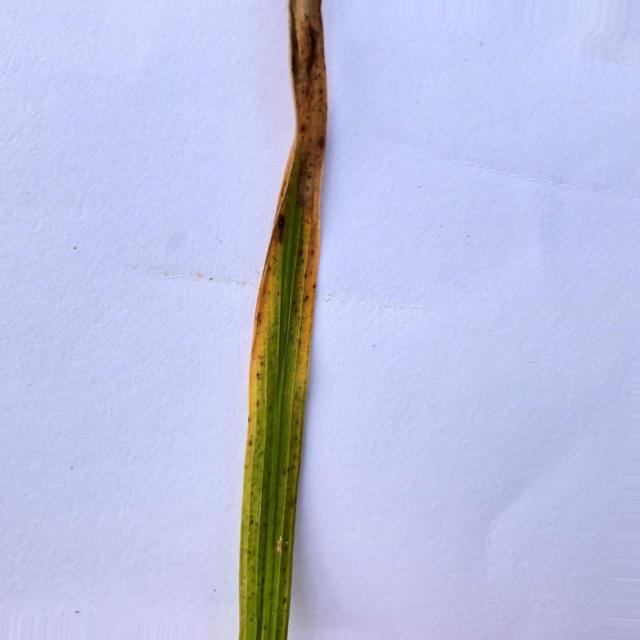Rice Tungro: (238, 0, 327, 639)
